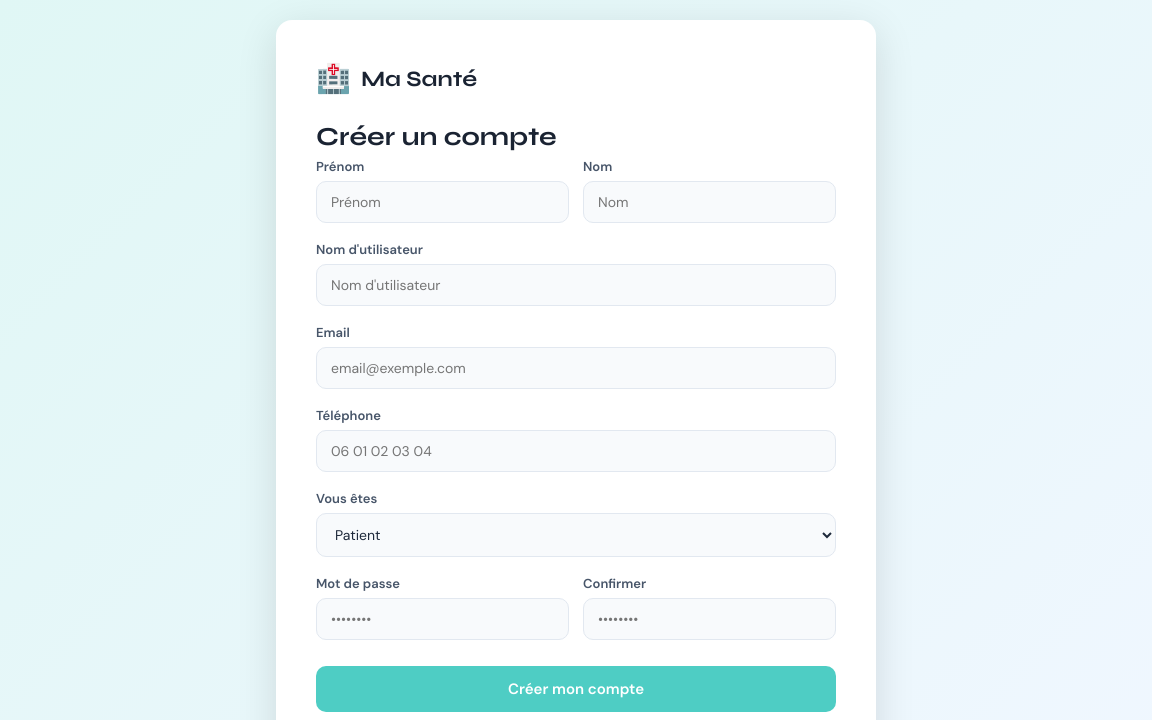
Test case: shows error when passwords do not match
In the field with placeholder "Prénom": (442, 202) [316,181,569,223], type "John"
In the field with placeholder "Nom": (710, 202) [583,181,836,223], type "Doe"
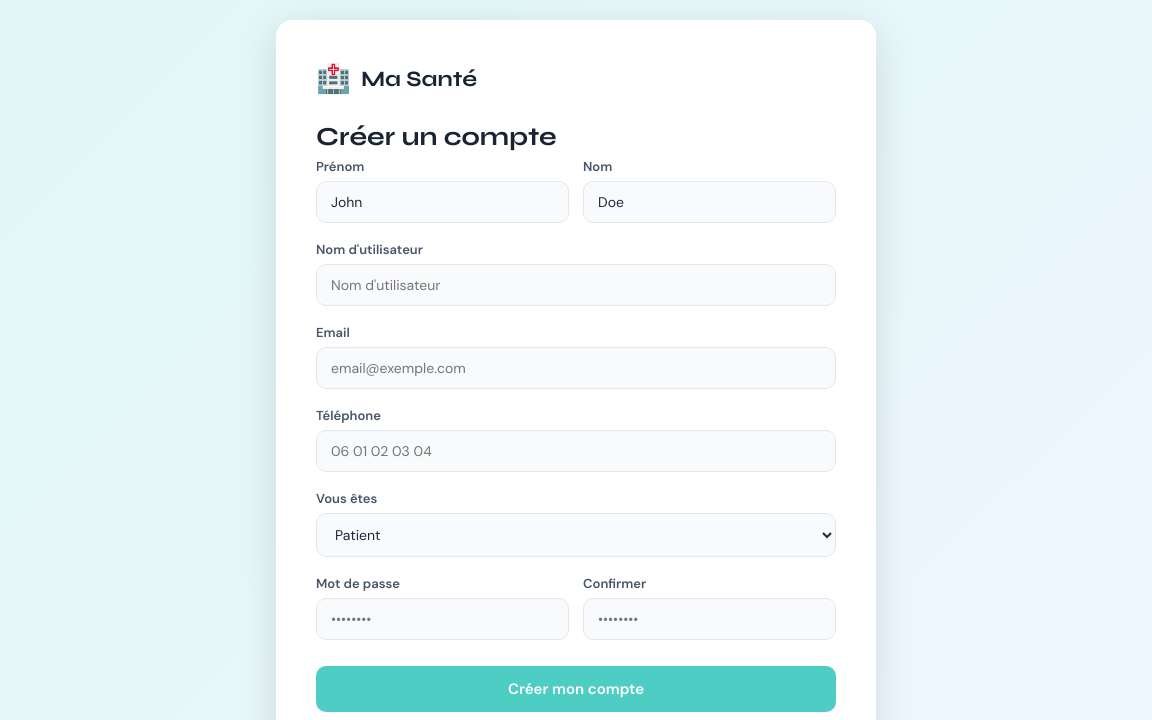
In the field with placeholder "Nom d'utilisateur": (576, 285) [316,264,836,306], type "johndoe"
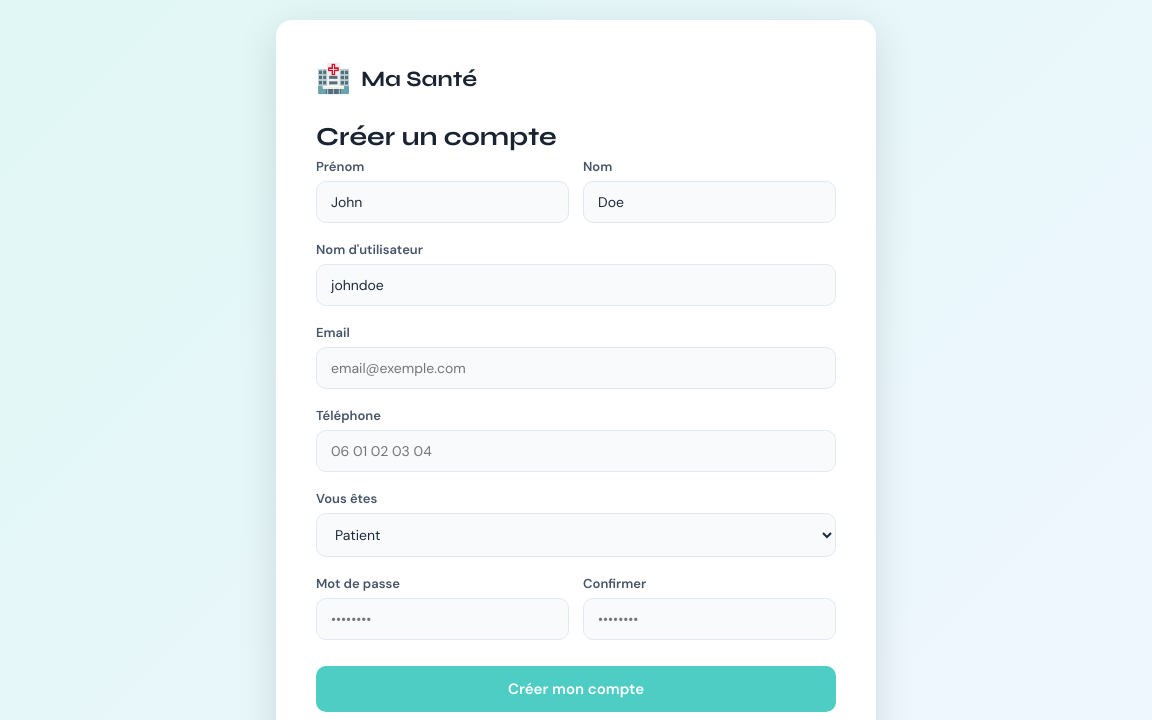
In the field with placeholder "email@exemple.com": (576, 368) [316,347,836,389], type "john@test.com"
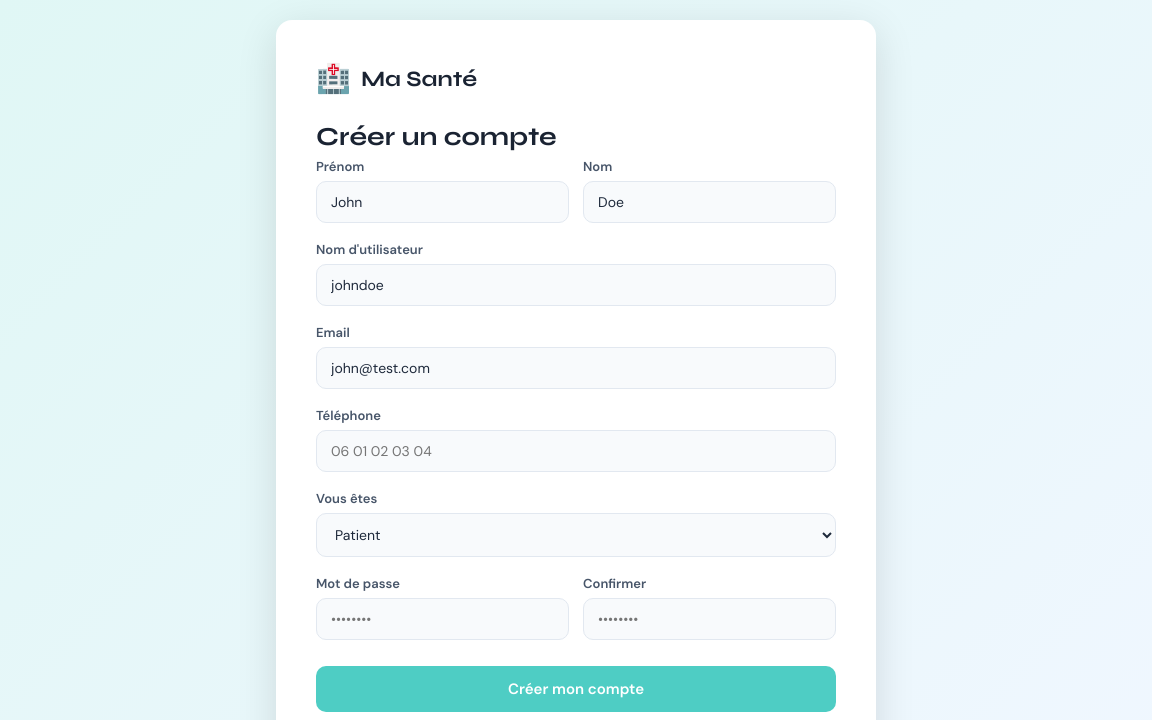
In the password field with placeholder "••••••••" below "Mot de passe": (442, 619) [316,598,569,640], type "pass1"
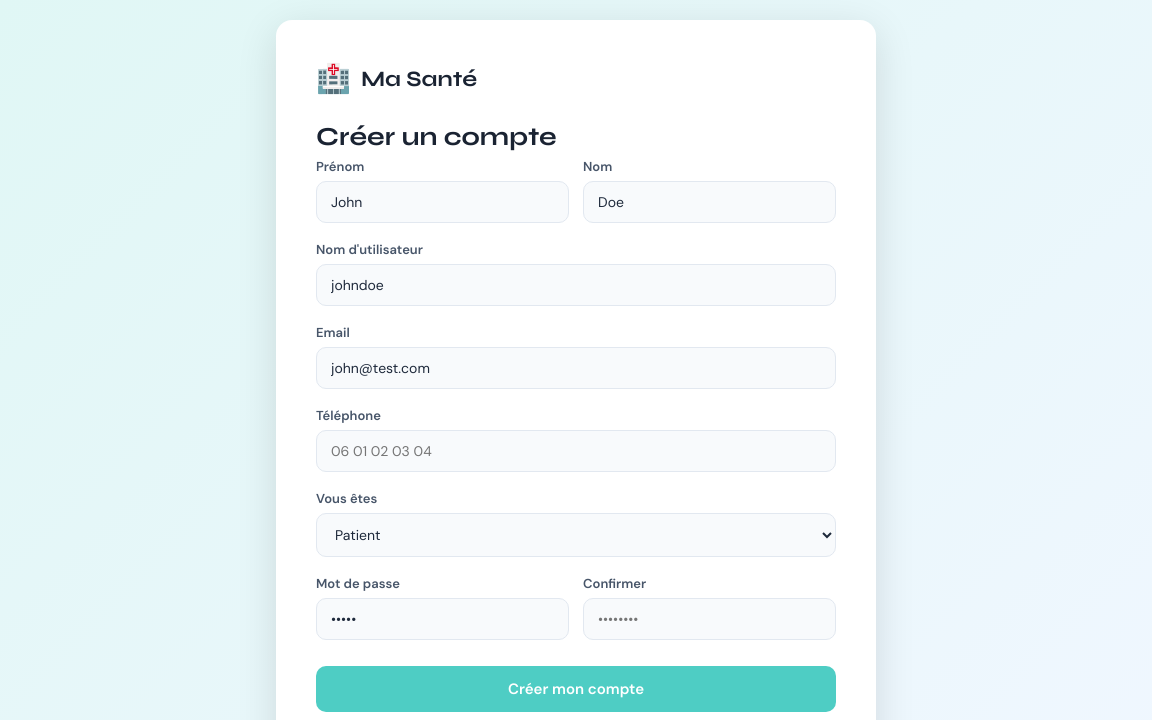
In the password field with placeholder "••••••••": (710, 619) [583,598,836,640], type "pass2"
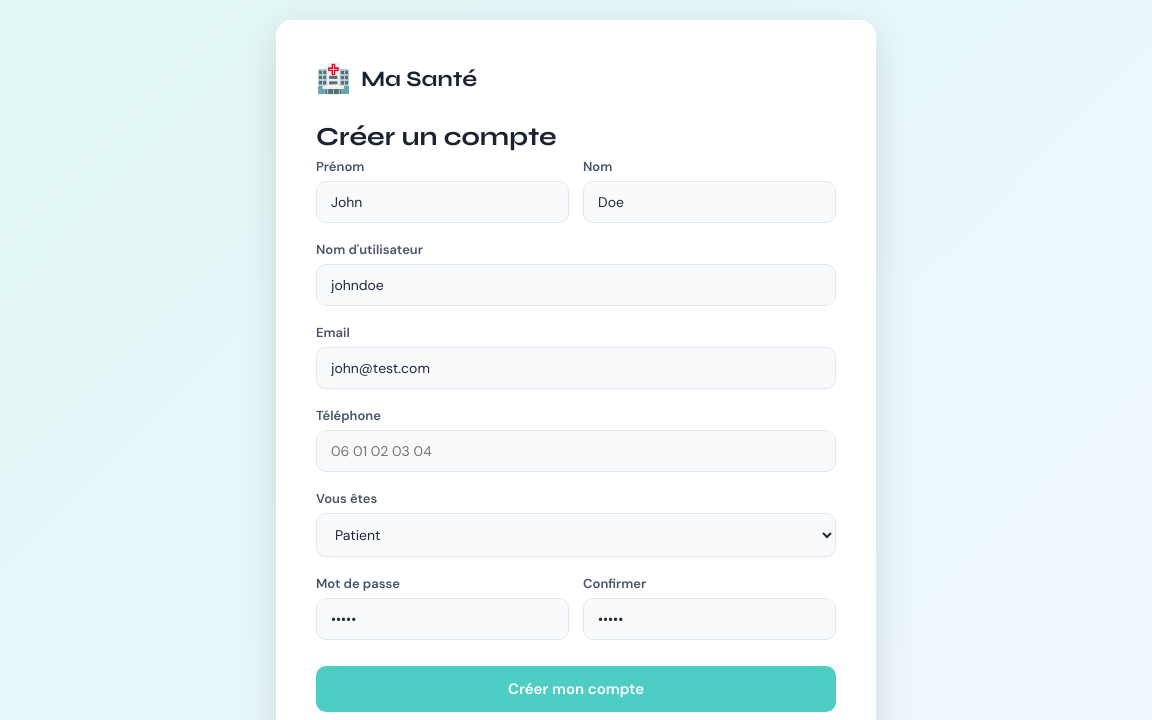
Click the button "Créer mon compte": (576, 689) [316,666,836,712]
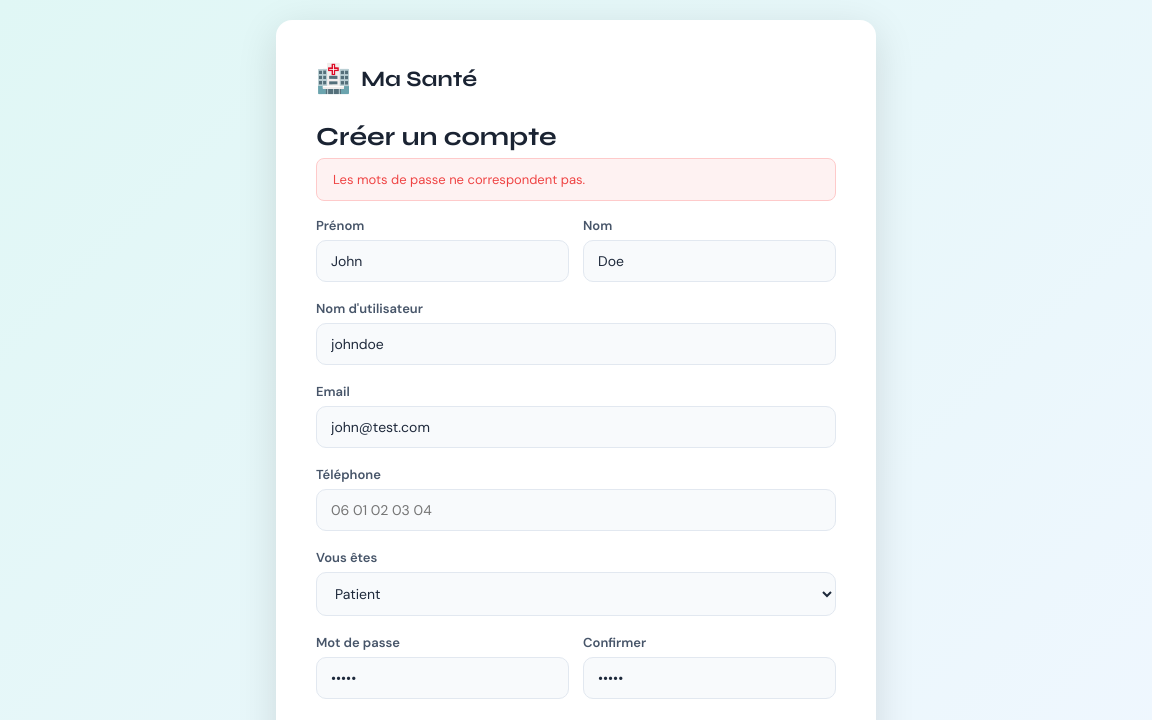
Check: the text "Les mots de passe ne correspondent pas." is shown, box [316,158,836,201]
